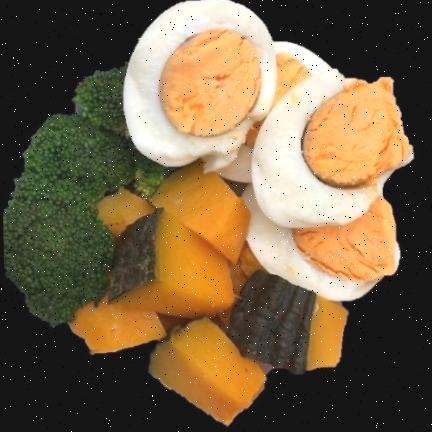broccoli: (3, 67, 167, 324)
egg: (124, 0, 415, 302)
